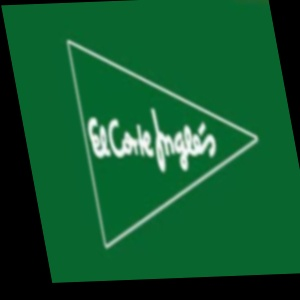corte_ingles: (224, 121, 290, 161)
